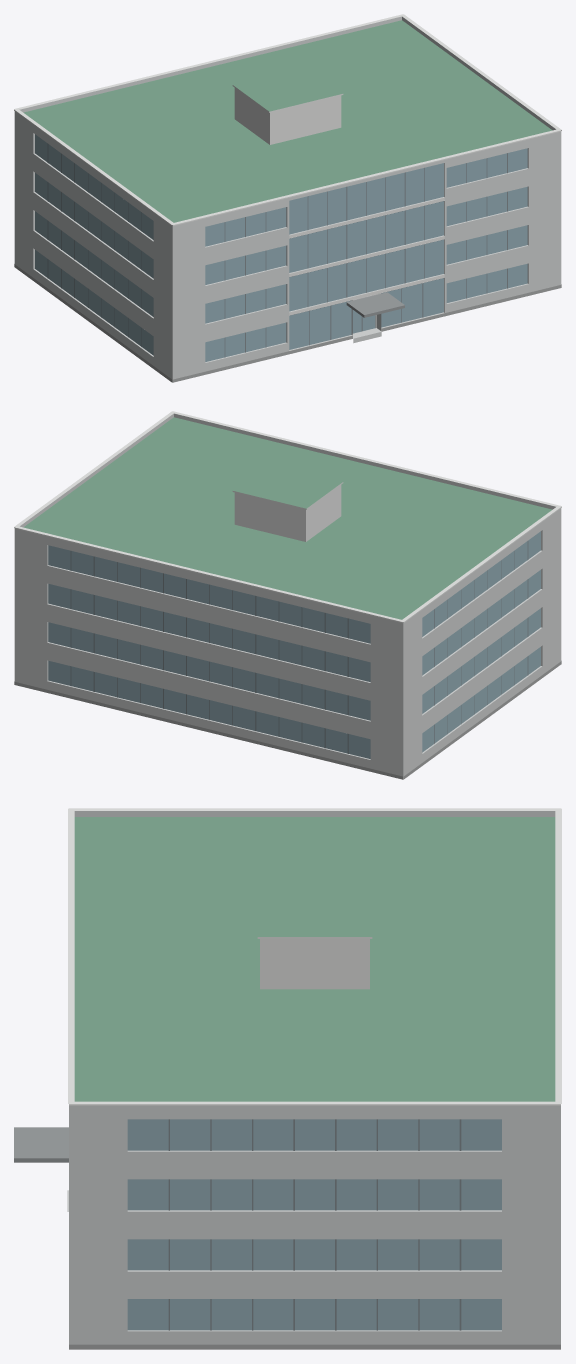
The picture shows the model from 3 angles, top to bottom: view 1: azimuth 30°, elevation 25°; view 2: azimuth 150°, elevation 25°; view 3: azimuth 270°, elevation 25°; orthographic projection. The views are drawn at different scales.
Parts seen in each view (by area): view 1: b115951748__roof, b115951748__glass, b115951748__wall, b115951748__trim, b115951748__parapet, b115951748__wall2, b115951748__frame, b115951748__base, b115951748__spandrel, b115951748__canopy; view 2: b115951748__roof, b115951748__wall, b115951748__glass, b115951748__trim, b115951748__parapet, b115951748__wall2, b115951748__frame, b115951748__base; view 3: b115951748__roof, b115951748__wall, b115951748__glass, b115951748__trim, b115951748__wall2, b115951748__parapet, b115951748__base, b115951748__frame, b115951748__canopy.
Boxes of the visible parts, x1=… form: b115951748__roof: x1=23, y1=20, x2=552, y2=222; b115951748__glass: x1=35, y1=134, x2=527, y2=361; b115951748__wall: x1=14, y1=113, x2=561, y2=382; b115951748__trim: x1=14, y1=14, x2=561, y2=225; b115951748__parapet: x1=14, y1=16, x2=561, y2=228; b115951748__wall2: x1=234, y1=88, x2=341, y2=144; b115951748__frame: x1=47, y1=143, x2=507, y2=357; b115951748__base: x1=14, y1=264, x2=561, y2=382; b115951748__spandrel: x1=289, y1=197, x2=444, y2=350; b115951748__canopy: x1=346, y1=292, x2=404, y2=317; b115951748__roof: x1=23, y1=417, x2=551, y2=619; b115951748__wall: x1=14, y1=510, x2=561, y2=779; b115951748__glass: x1=48, y1=531, x2=540, y2=758; b115951748__trim: x1=14, y1=411, x2=561, y2=623; b115951748__parapet: x1=14, y1=413, x2=561, y2=625; b115951748__wall2: x1=234, y1=485, x2=341, y2=541; b115951748__frame: x1=70, y1=541, x2=528, y2=753; b115951748__base: x1=14, y1=661, x2=561, y2=779; b115951748__roof: x1=74, y1=817, x2=555, y2=1101; b115951748__wall: x1=69, y1=1109, x2=560, y2=1344; b115951748__glass: x1=127, y1=1119, x2=501, y2=1330; b115951748__trim: x1=68, y1=808, x2=561, y2=1105; b115951748__wall2: x1=260, y1=939, x2=369, y2=989; b115951748__parapet: x1=69, y1=811, x2=560, y2=1109; b115951748__base: x1=69, y1=1344, x2=560, y2=1349; b115951748__frame: x1=168, y1=1119, x2=461, y2=1330; b115951748__canopy: x1=14, y1=1127, x2=68, y2=1162.
Size of the model in its own units: 38.19 by 18 by 29.86.
